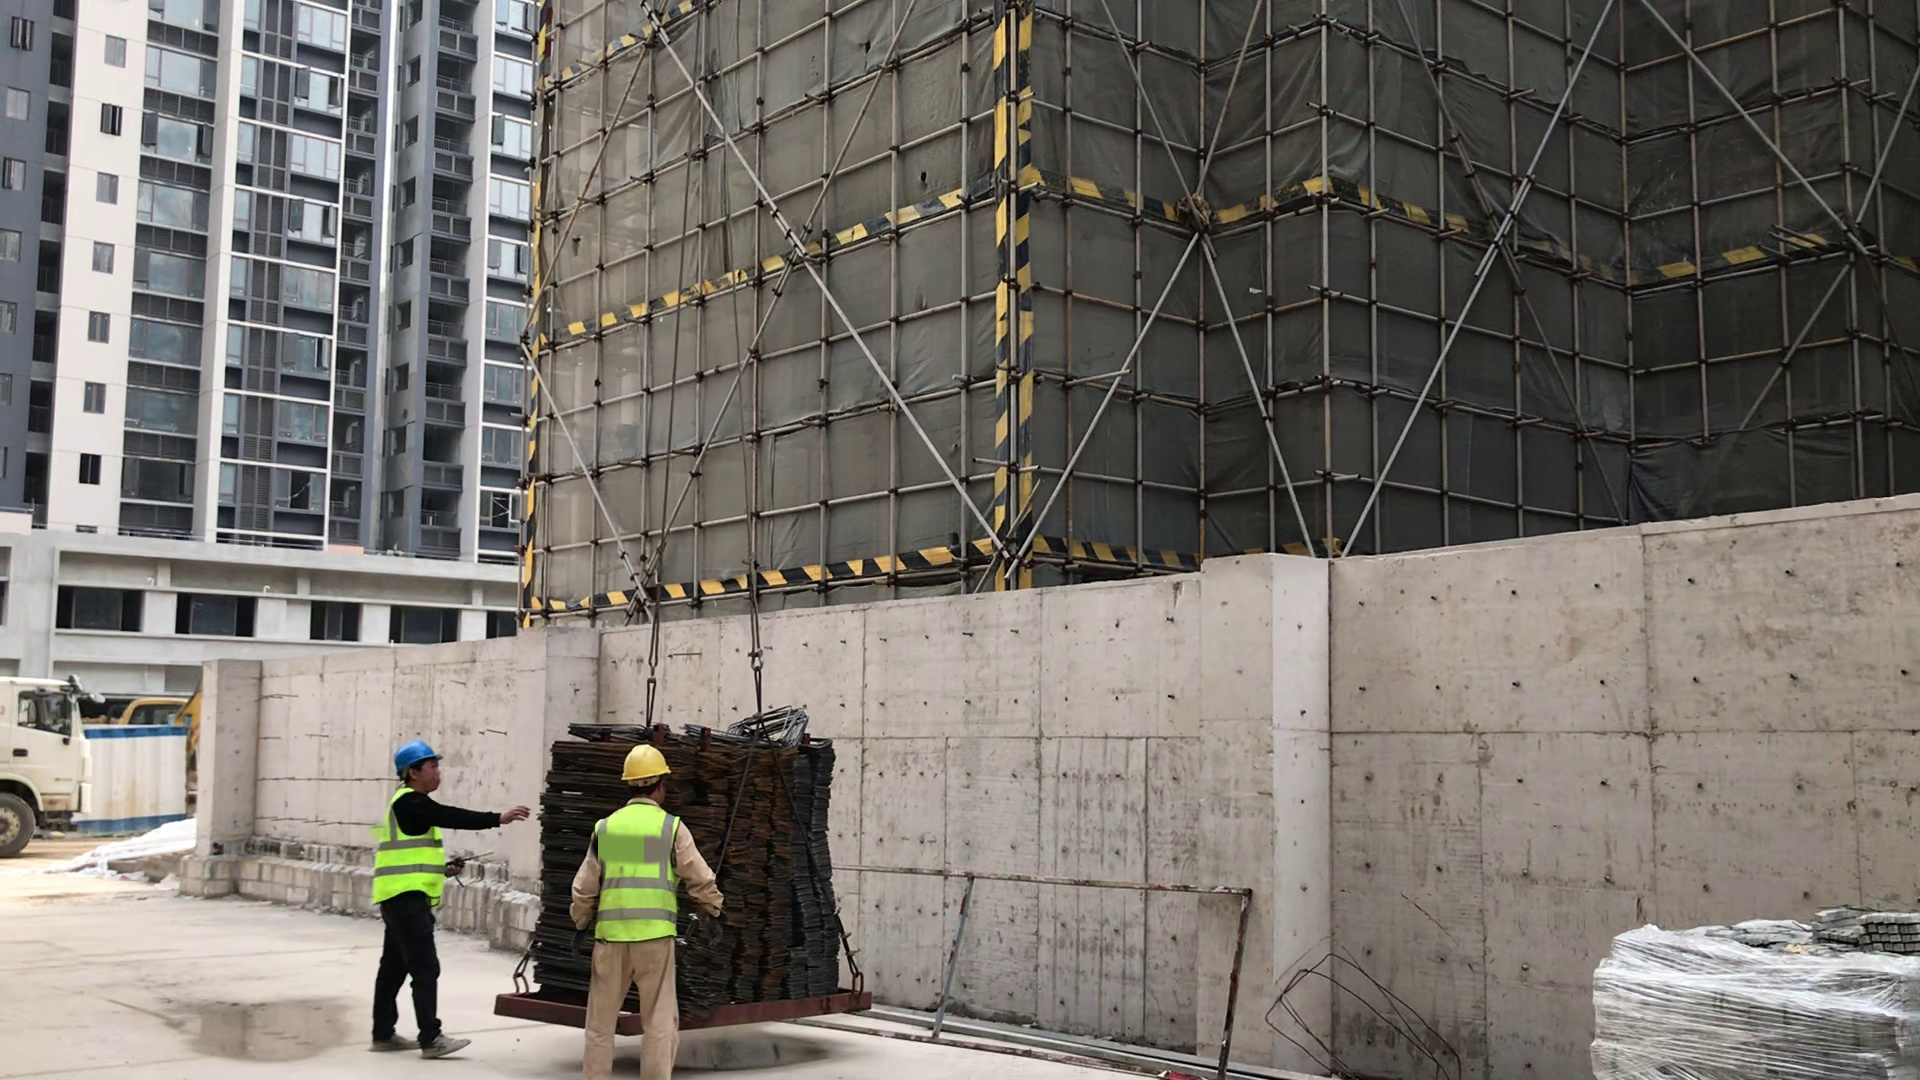helmet: (623, 741, 675, 794), (390, 739, 457, 778)
person: (376, 738, 504, 1072), (583, 732, 702, 1080)
vest: (592, 805, 684, 951), (380, 791, 448, 913)
